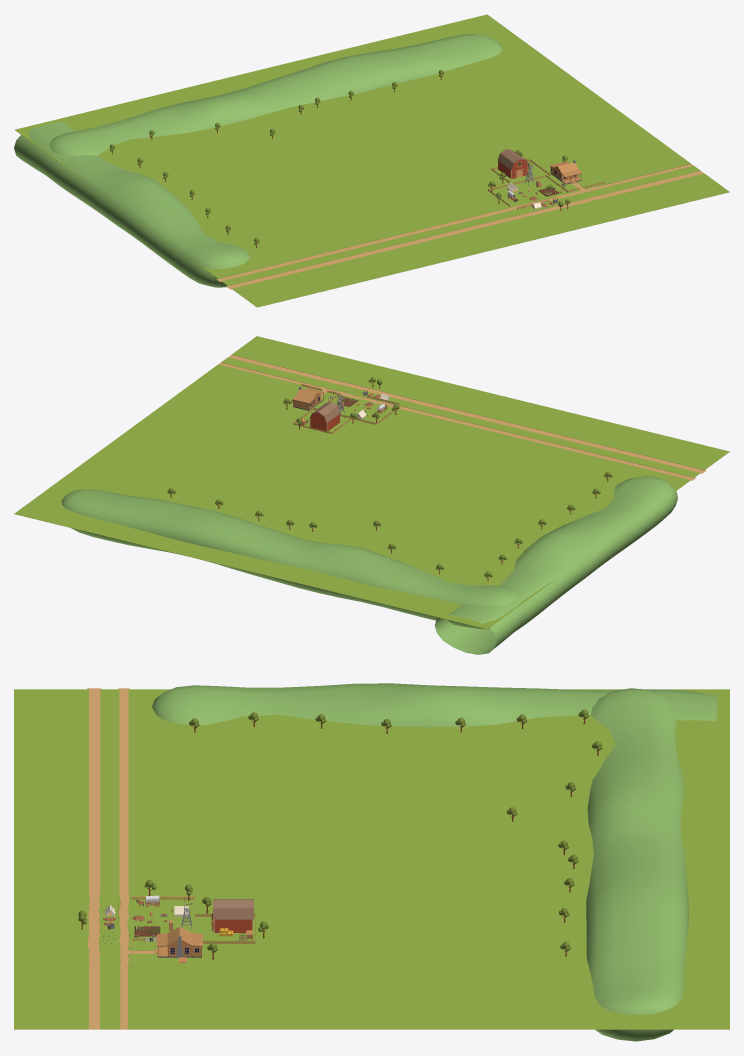
The model's file is homestead-final.glb.
The picture shows the model from 3 angles, top to bottom: view 1: azimuth 30°, elevation 25°; view 2: azimuth 150°, elevation 25°; view 3: azimuth 270°, elevation 25°; orthographic projection. The views are drawn at different scales.
Parts seen in each view (by area): view 1: Ground.001, green, Road, Farm_House, tree, Fence; view 2: Ground.001, green, Road, tree, Farm_House; view 3: Ground.001, green, Road, Farm_House, tree, House_Part.
Part boxes in pixels (x1,y1,x2,y2): Ground.001: [15, 14, 729, 307]; green: [14, 34, 502, 287]; Road: [217, 164, 703, 289]; Farm_House: [497, 149, 528, 179]; tree: [109, 70, 444, 247]; Fence: [488, 159, 605, 209]; Ground.001: [14, 336, 729, 629]; green: [61, 476, 677, 654]; Road: [219, 355, 706, 480]; tree: [167, 471, 612, 581]; Farm_House: [309, 402, 340, 431]; Ground.001: [14, 689, 729, 1029]; green: [152, 683, 717, 1041]; Road: [87, 688, 156, 1029]; Farm_House: [211, 899, 253, 933]; tree: [189, 709, 602, 956]; House_Part: [156, 927, 202, 958].
Size of the model in its own units: 273 by 29.59 by 239.
Materials: 9 (8 with a texture image).
